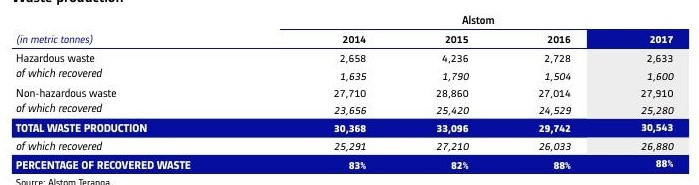table: (0, 0, 699, 185)
